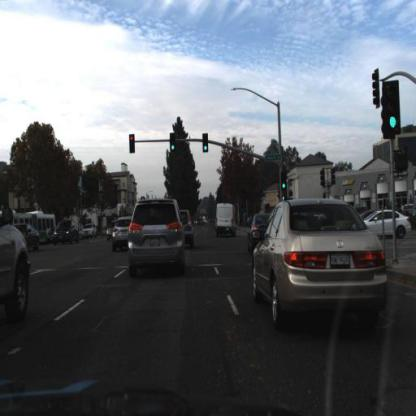car: (255, 186, 392, 330), (126, 196, 186, 277), (1, 201, 34, 328), (365, 206, 409, 240), (246, 207, 275, 258), (214, 201, 240, 239), (110, 214, 131, 250), (180, 206, 195, 251), (54, 220, 81, 243), (82, 223, 100, 242)
trafficLight: (382, 81, 402, 138), (280, 171, 289, 194), (129, 134, 138, 155), (170, 132, 178, 155), (202, 133, 210, 153)
